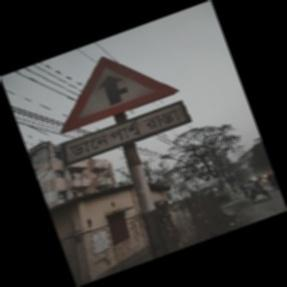Side-road-right: (59, 56, 186, 224)
